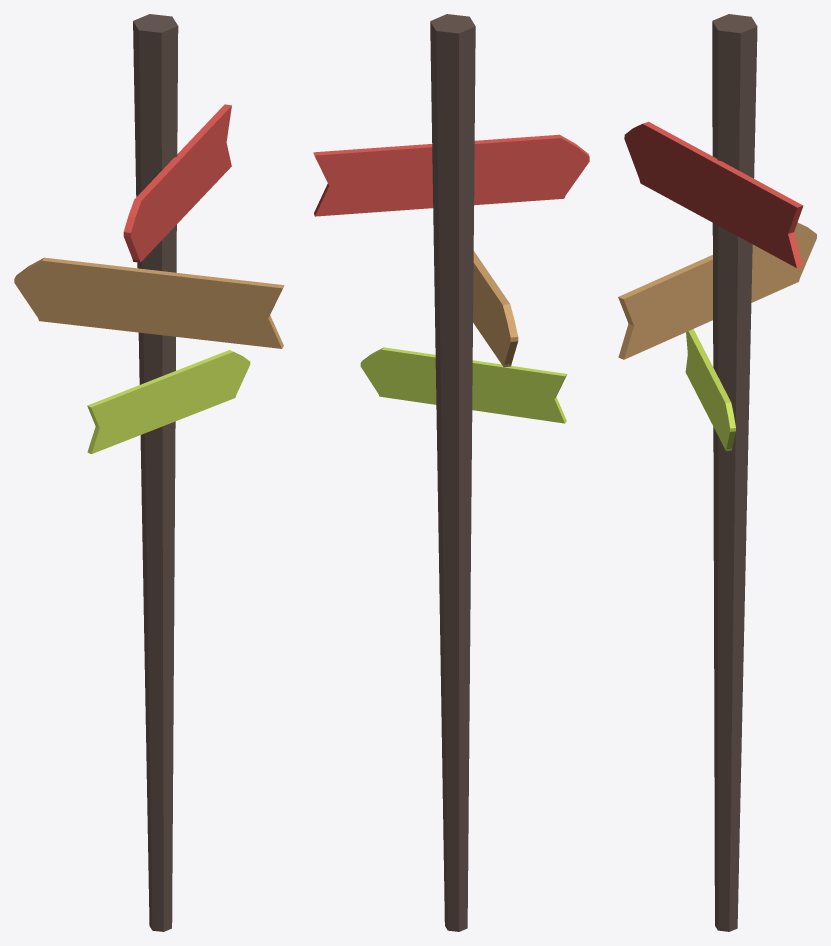
Rendered from wooden_pointer.fbx.
3 renders of one model, left to right at view 1: azimuth 30°, elevation 25°; view 2: azimuth 150°, elevation 25°; view 3: azimuth 270°, elevation 25°, orthographic.
Visible parts, largest first — view 1: Wooden_Pointer; view 2: Wooden_Pointer; view 3: Wooden_Pointer.
Boxes of the visible parts, x1,y1,x2,y2 form: Wooden_Pointer: (14, 14, 284, 931); Wooden_Pointer: (313, 14, 589, 931); Wooden_Pointer: (618, 14, 816, 931).
Bounding box in the file's own units: 66.17 × 270 × 53.96.
